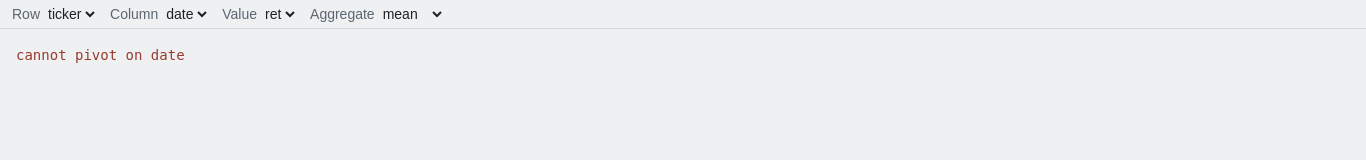
Scenario: heatmap built-in › lets the researcher re-pick a saved column the kernel refuses
The image size is (1366, 160).
Check: the text "cannot pivot on date" is shown, box top-left (16, 47), bottom-right (185, 63)
Select "date" in the dropdown labelled "Row" at (71, 14), box top-left (44, 5), bottom-right (98, 23)
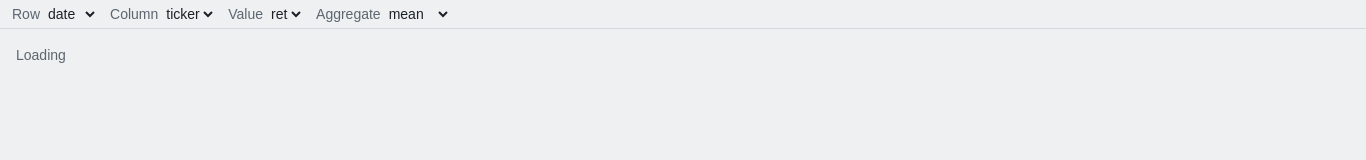
Check: the text "Loading" is shown, box top-left (16, 47), bottom-right (66, 63)
